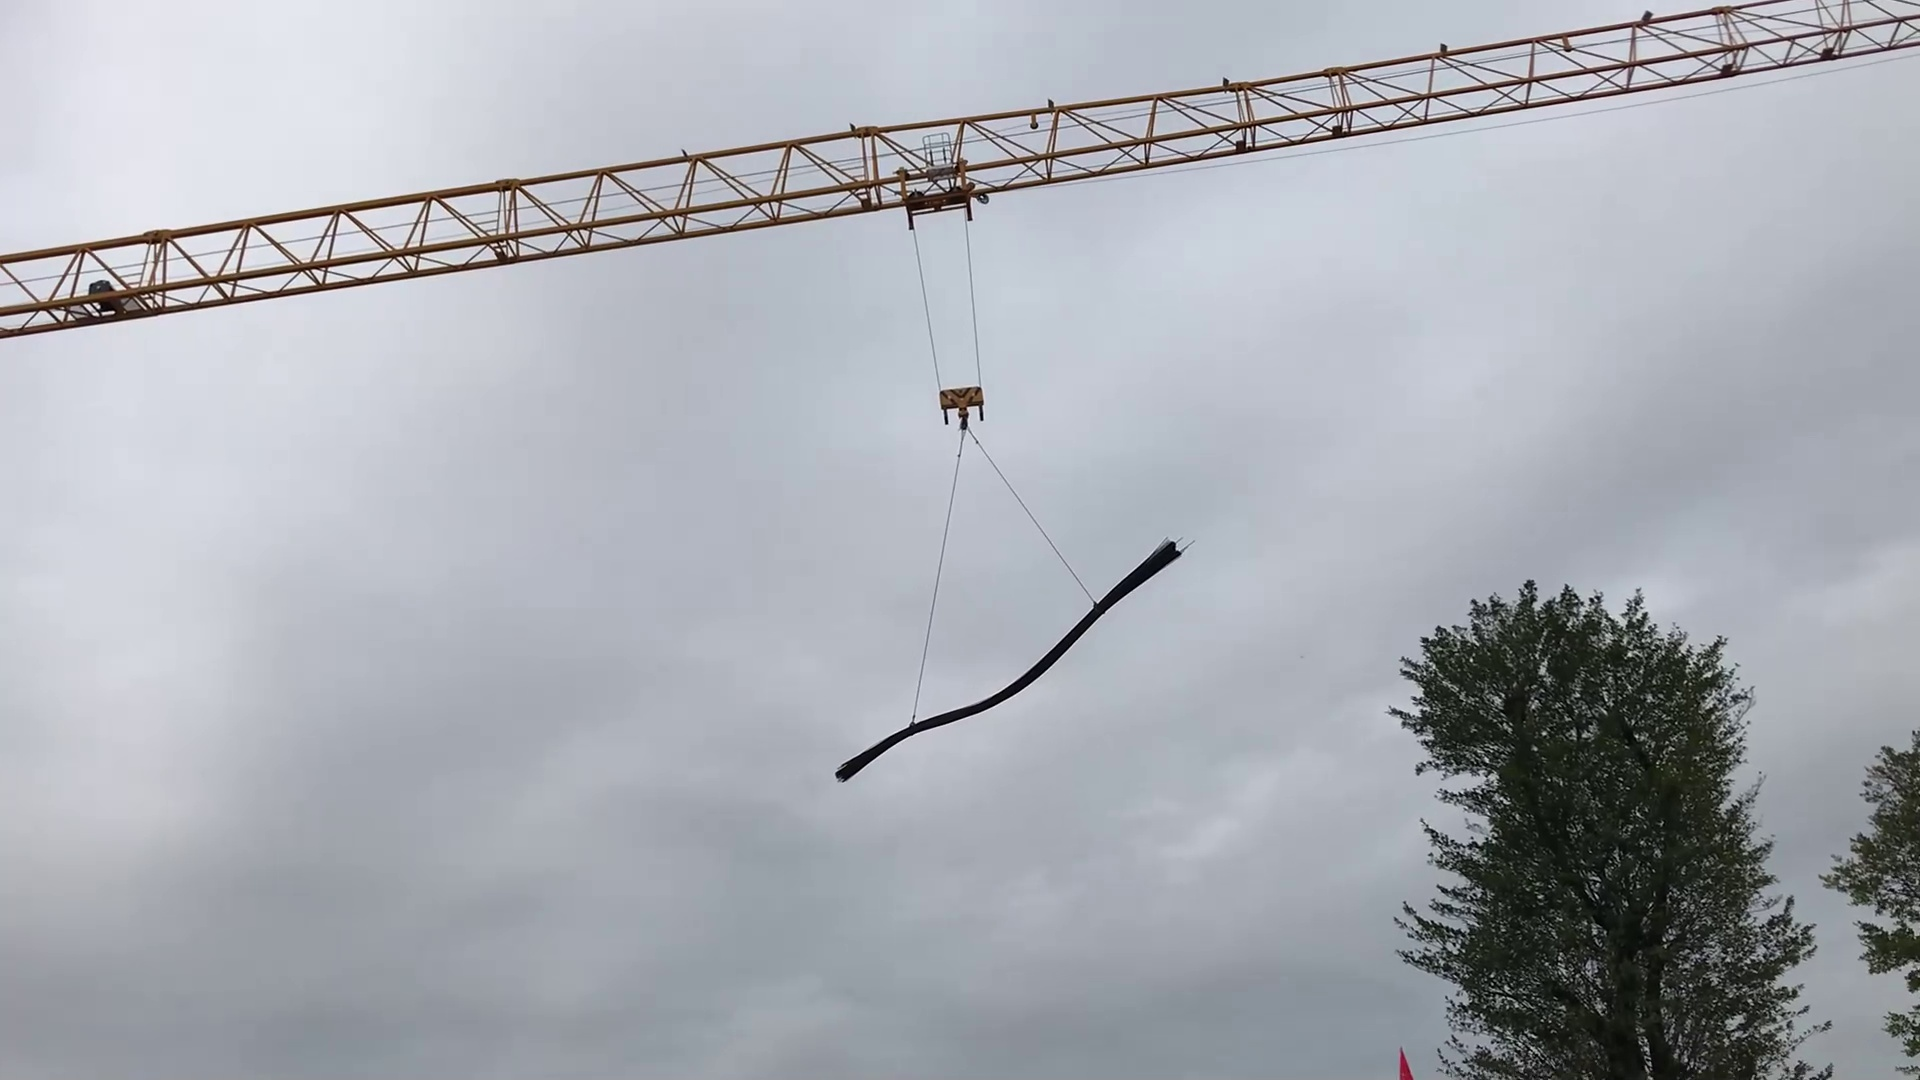hook: (935, 384, 989, 431)
rebar: (829, 533, 1201, 786)
